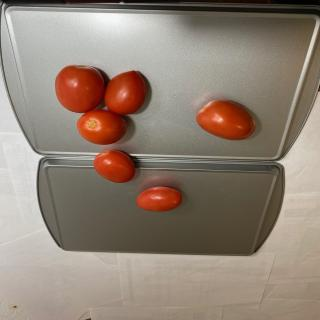Tomato: (196, 100, 256, 140), (55, 65, 105, 113), (104, 70, 147, 115), (76, 109, 128, 145), (93, 149, 136, 183), (136, 186, 182, 212)
